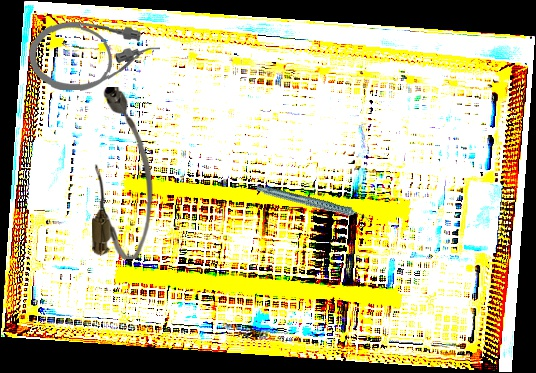Cannula: (91, 86, 155, 260), (27, 20, 162, 94)
Handpiece: (255, 163, 372, 245)
